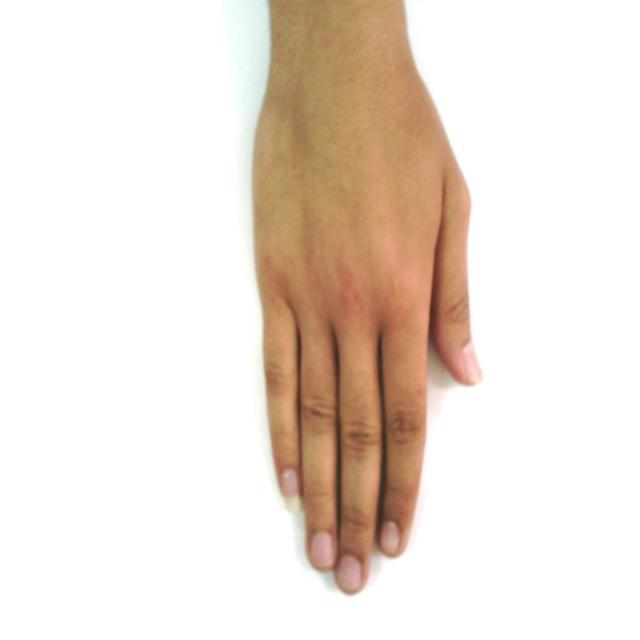Fingernail: (338, 555, 363, 593), (311, 532, 334, 569), (463, 344, 483, 382), (380, 522, 400, 555), (282, 470, 298, 499)
